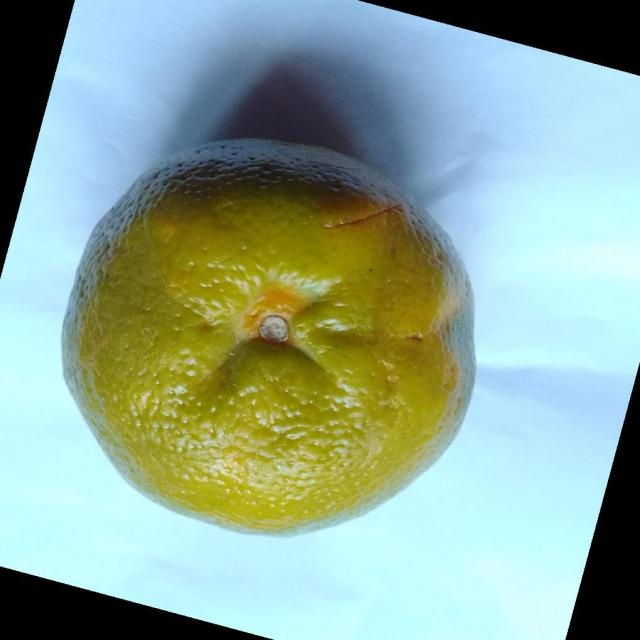agrume: (59, 136, 477, 539)
